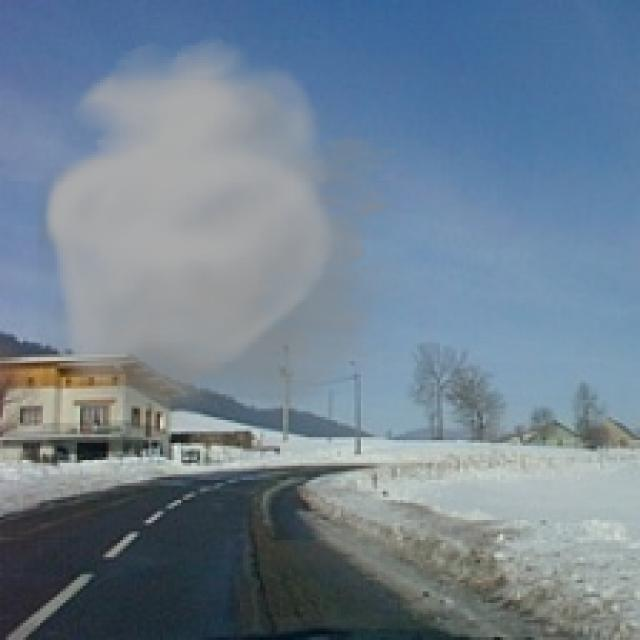smoke: (37, 37, 437, 434)
